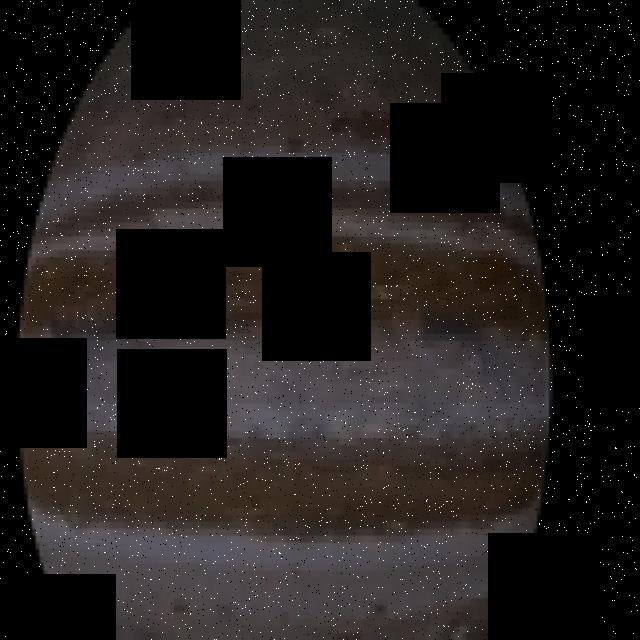Jupiter: (16, 0, 554, 640)
